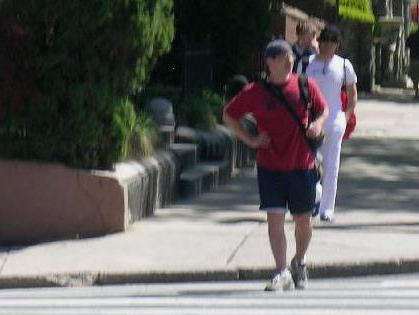pedestrian: (223, 40, 329, 291)
